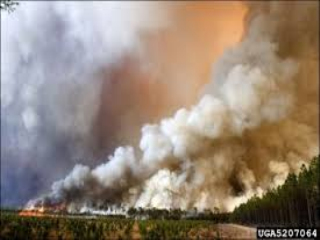fire: (21, 205, 46, 219)
smoke: (45, 91, 317, 214), (214, 10, 315, 123)
